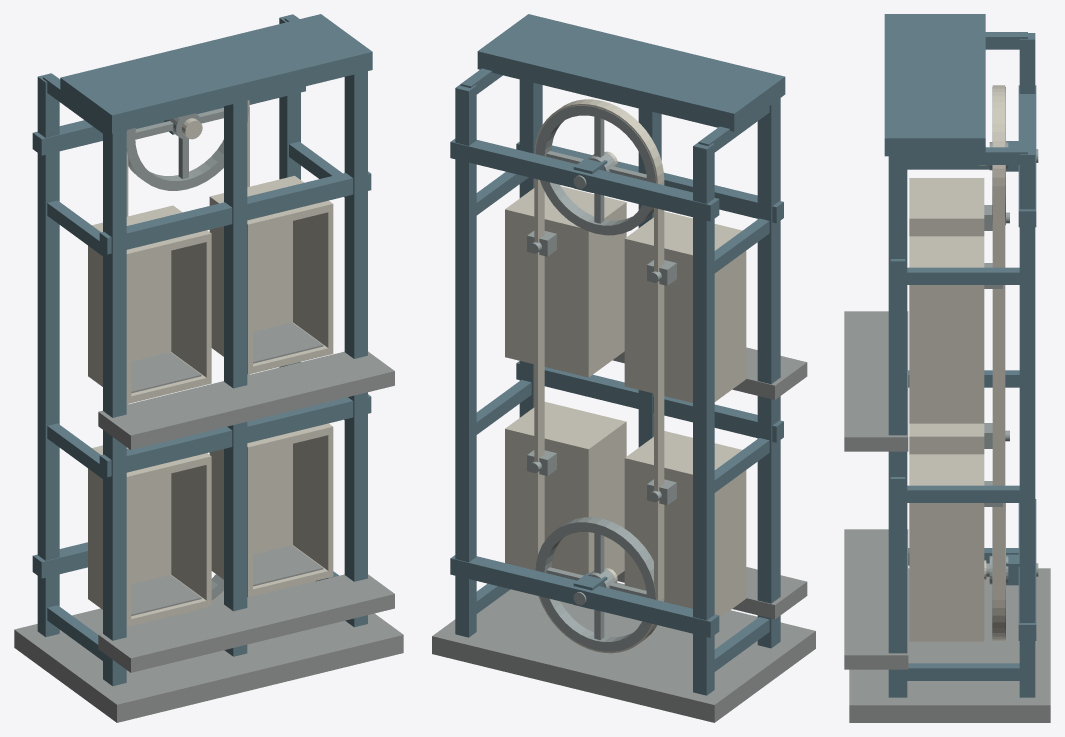
3 renders of one model, left to right at view 1: azimuth 30°, elevation 25°; view 2: azimuth 150°, elevation 25°; view 3: azimuth 270°, elevation 25°, orthographic. The views are drawn at different scales.
Visible parts, largest first — view 1: WholeTopArchitectureHeader, WholeGroundFootFacilityBase, WholeOpenCabin_0_1, WholeOpenCabin_1_1, WholeOpenCabin_0_0, WholeOpenCabin_1_0, WholeLevelFrontThreshold_1, WholeLevelFrontThreshold_0, WholeFrontShaftPier_0, WholeRearShaftColumn_0, WholeFrontShaftPier_1, WholeFrontShaftPier_2 (+15 smaller); view 2: WholeGroundFootFacilityBase, WholeTopArchitectureHeader, WholeOpenCabin_1_1, WholeOpenCabin_1_0, WholeOpenCabin_0_1, WholeOpenCabin_0_0, WholeRearShaftColumn_0, WholeRearShaftColumn_1, WholeFrontShaftPier_0, WholeContinuousRearReturnBand, WholeRearBearingCrossbeam_0, WholeRearBearingCrossbeam_1 (+14 smaller); view 3: WholeTopArchitectureHeader, WholeGroundFootFacilityBase, WholeOpenCabin_1_0, WholeOpenCabin_1_1, WholeFrontShaftPier_2, WholeRearShaftColumn_1, WholeContinuousRearReturnBand, WholeLevelFrontThreshold_0, WholeLevelFrontThreshold_1, WholeOpenCabin_0_1, WholeOpenCabin_0_0, WholeSideDepthTie_1_1 (+10 smaller).
Boxes of the visible parts, left/top/right/bottom form: WholeTopArchitectureHeader: left=60, top=14, right=372, bottom=133; WholeGroundFootFacilityBase: left=14, top=581, right=403, bottom=722; WholeOpenCabin_0_1: left=88, top=205, right=211, bottom=403; WholeOpenCabin_1_1: left=209, top=175, right=333, bottom=374; WholeOpenCabin_0_0: left=88, top=445, right=211, bottom=626; WholeOpenCabin_1_0: left=209, top=423, right=333, bottom=597; WholeLevelFrontThreshold_1: left=98, top=351, right=394, bottom=449; WholeLevelFrontThreshold_0: left=98, top=574, right=394, bottom=672; WholeFrontShaftPier_0: left=103, top=127, right=126, bottom=686; WholeRearShaftColumn_0: left=37, top=73, right=59, bottom=637; WholeFrontShaftPier_1: left=224, top=100, right=247, bottom=656; WholeFrontShaftPier_2: left=344, top=71, right=367, bottom=627; WholeGroundFootFacilityBase: left=432, top=582, right=815, bottom=722; WholeTopArchitectureHeader: left=477, top=14, right=785, bottom=131; WholeOpenCabin_1_1: left=505, top=186, right=626, bottom=377; WholeOpenCabin_1_0: left=505, top=402, right=626, bottom=575; WholeOpenCabin_0_1: left=624, top=211, right=746, bottom=402; WholeOpenCabin_0_0: left=624, top=431, right=746, bottom=617; WholeRearShaftColumn_0: left=693, top=142, right=714, bottom=695; WholeRearShaftColumn_1: left=455, top=84, right=476, bottom=637; WholeFrontShaftPier_0: left=757, top=98, right=780, bottom=648; WholeContinuousRearReturnBand: left=534, top=99, right=664, bottom=653; WholeRearBearingCrossbeam_0: left=450, top=555, right=719, bottom=637; WholeRearBearingCrossbeam_1: left=450, top=139, right=719, bottom=221; WholeTopArchitectureHeader: left=884, top=14, right=985, bottom=156; WholeGroundFootFacilityBase: left=849, top=568, right=1050, bottom=722; WholeOpenCabin_1_0: left=909, top=454, right=984, bottom=641; WholeOpenCabin_1_1: left=909, top=236, right=984, bottom=423; WholeFrontShaftPier_2: left=888, top=156, right=907, bottom=697; WholeRearShaftColumn_1: left=1019, top=148, right=1035, bottom=697; WholeContinuousRearReturnBand: left=992, top=85, right=1005, bottom=640; WholeLevelFrontThreshold_0: left=844, top=529, right=908, bottom=669; WholeLevelFrontThreshold_1: left=844, top=311, right=908, bottom=451; WholeOpenCabin_0_1: left=909, top=178, right=984, bottom=236; WholeOpenCabin_0_0: left=909, top=423, right=984, bottom=454; WholeSideDepthTie_1_1: left=907, top=485, right=1019, bottom=502.
Size of the model in its own units: 1.98 by 3.9 by 1.26.
